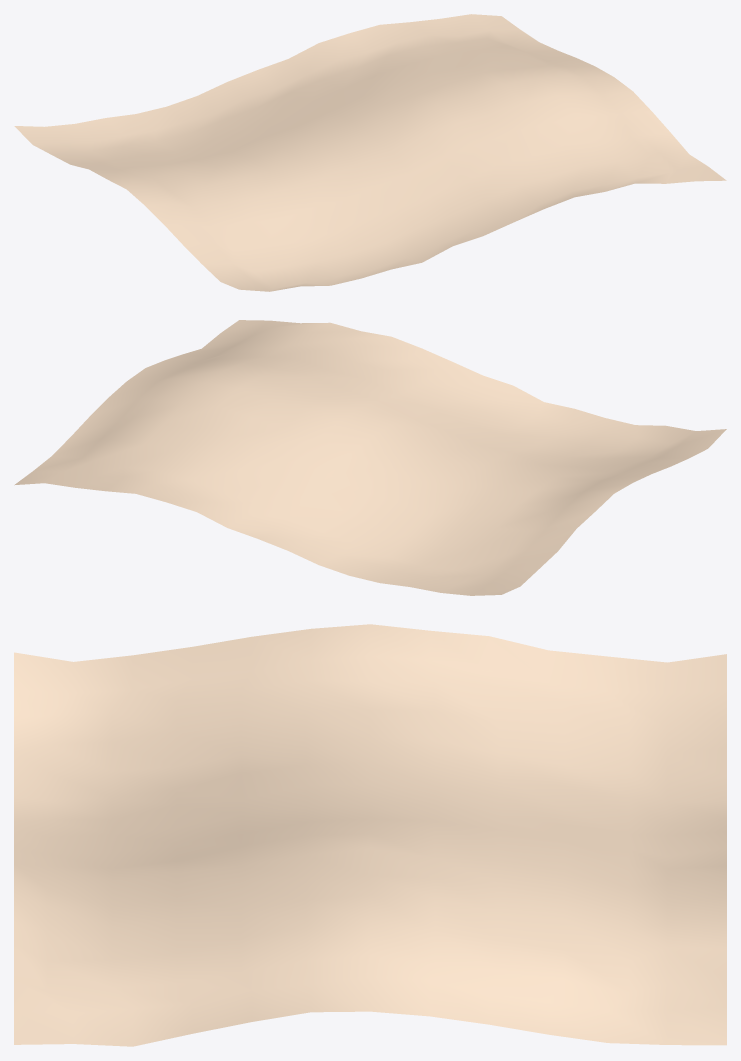
The model's file is SM_Item_hide.gltf.
3 views of the same model, one above another, from view 1: azimuth 30°, elevation 25°; view 2: azimuth 150°, elevation 25°; view 3: azimuth 270°, elevation 25° (orthographic). The views are drawn at different scales.
Visible parts, largest first — view 1: SM_Item_hide; view 2: SM_Item_hide; view 3: SM_Item_hide.
Part boxes in pixels (<box>): SM_Item_hide: <box>14,14,726,291</box>; SM_Item_hide: <box>14,320,726,595</box>; SM_Item_hide: <box>14,624,726,1046</box>.
Bounding box in the file's own units: 0.69 × 0.0727 × 0.552.
